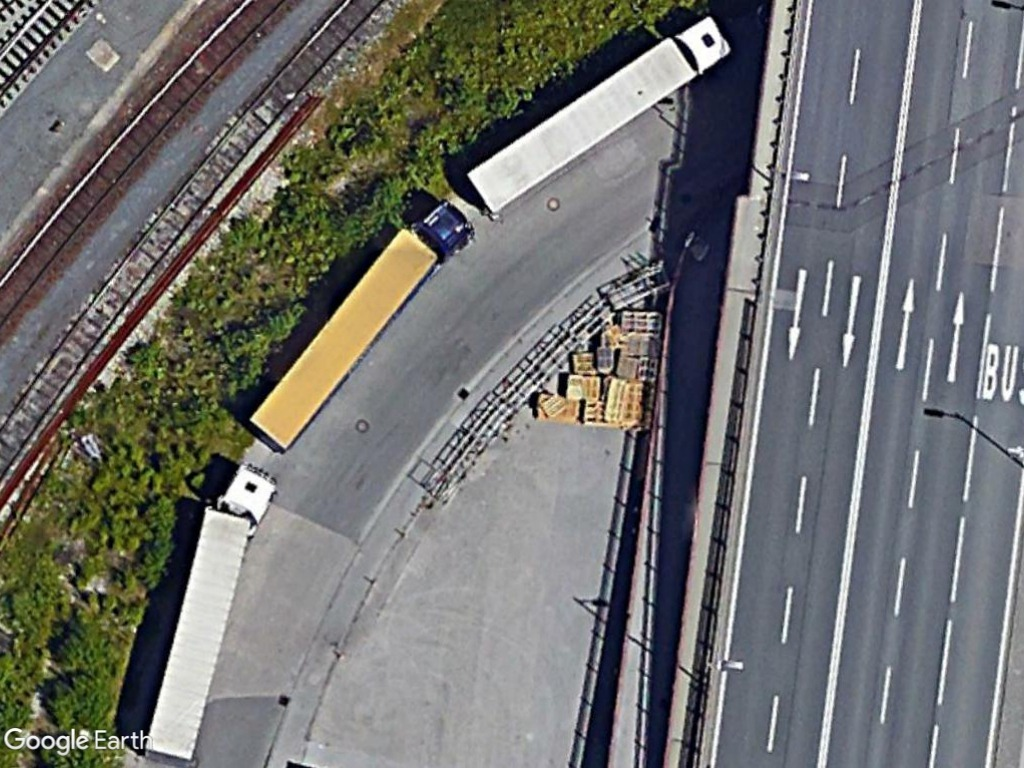longvehicle: (244, 185, 475, 459), (461, 7, 746, 219), (138, 462, 286, 766)
